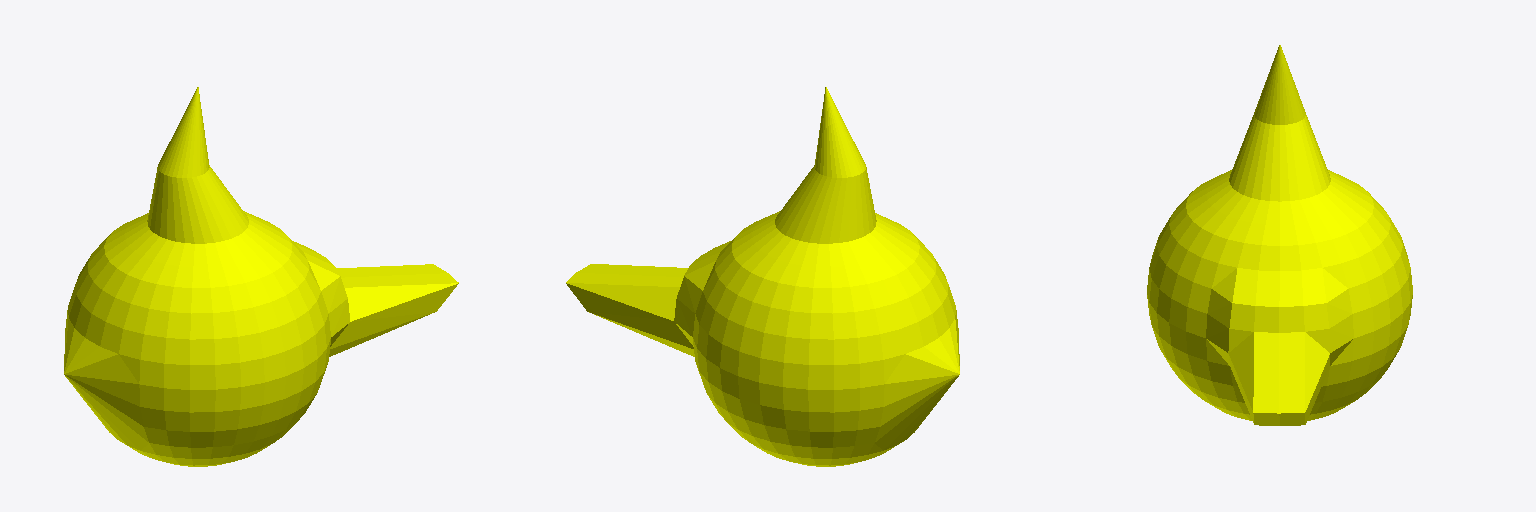
3 views of the same model, side by side, from view 1: azimuth 30°, elevation 25°; view 2: azimuth 150°, elevation 25°; view 3: azimuth 270°, elevation 25° (orthographic).
Visible parts, largest first — view 1: Sphere; view 2: Sphere; view 3: Sphere.
Part boxes in pixels (x1,y1,x2,y2): Sphere: (64, 87, 458, 466); Sphere: (566, 87, 959, 466); Sphere: (1147, 45, 1412, 425).
Bounding box in the file's own units: 3.33 × 3.06 × 2.
1 materials, 1 textured.